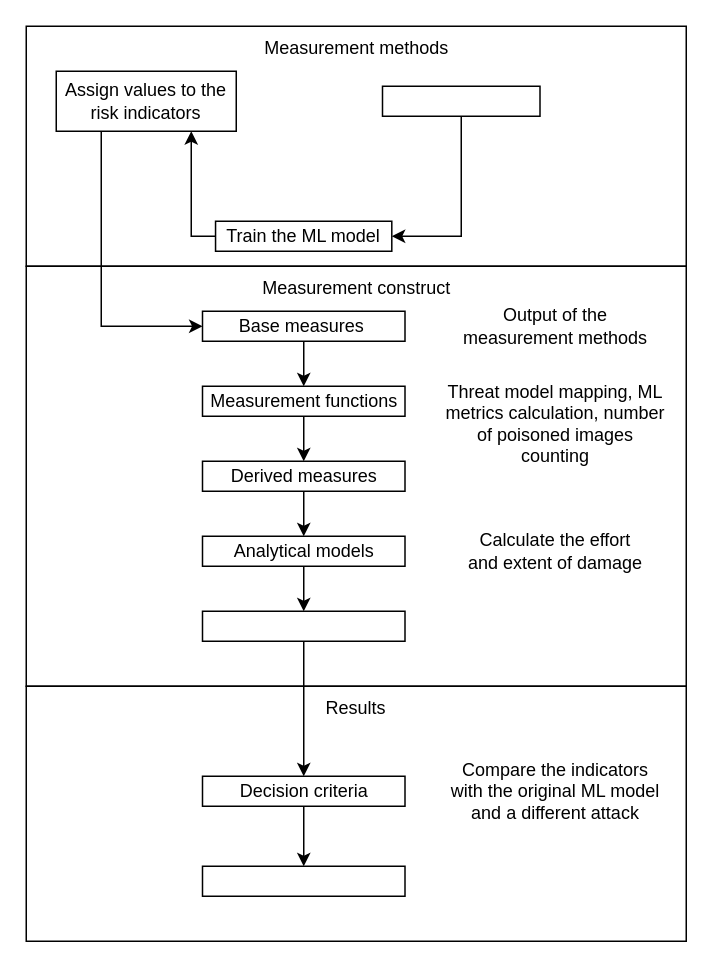
The diagram is 713 pixels wide and 968 high, and some of its shapes have lost their labels. Here are the shapes that lost their labels. From the top down, the centre of each, then its label:
At (460,100): "Backdoor attack".
At (303,625): "Indicators".
At (303,880): "Measurement results".
